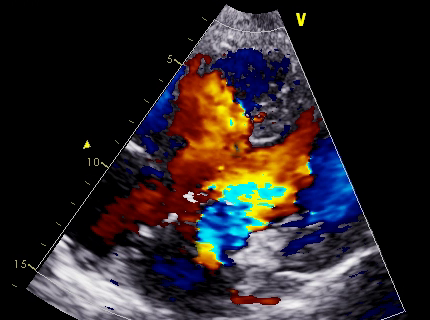TR: (137, 130, 192, 192)
